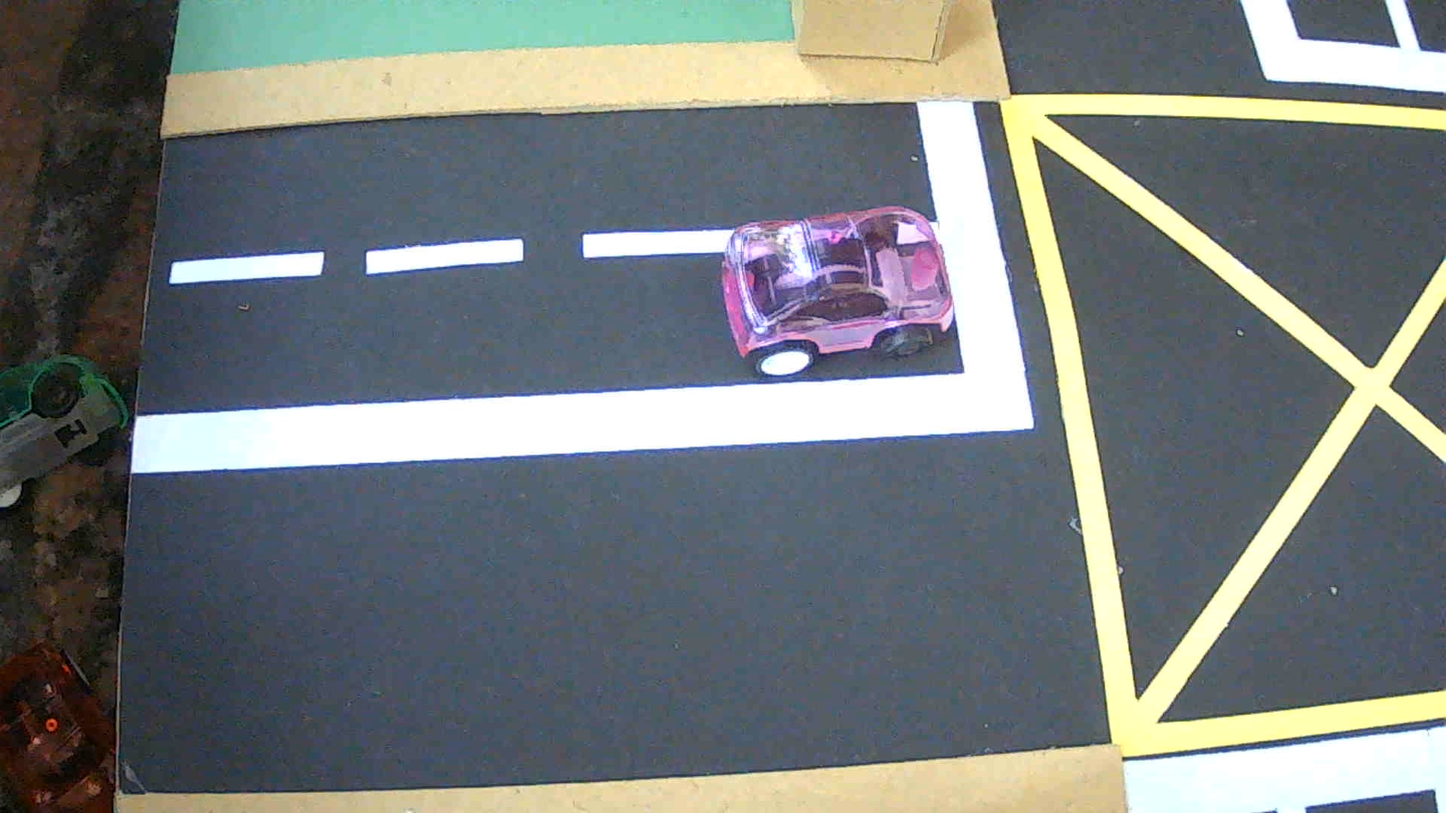Mobil ungu: (720, 207, 953, 377)
